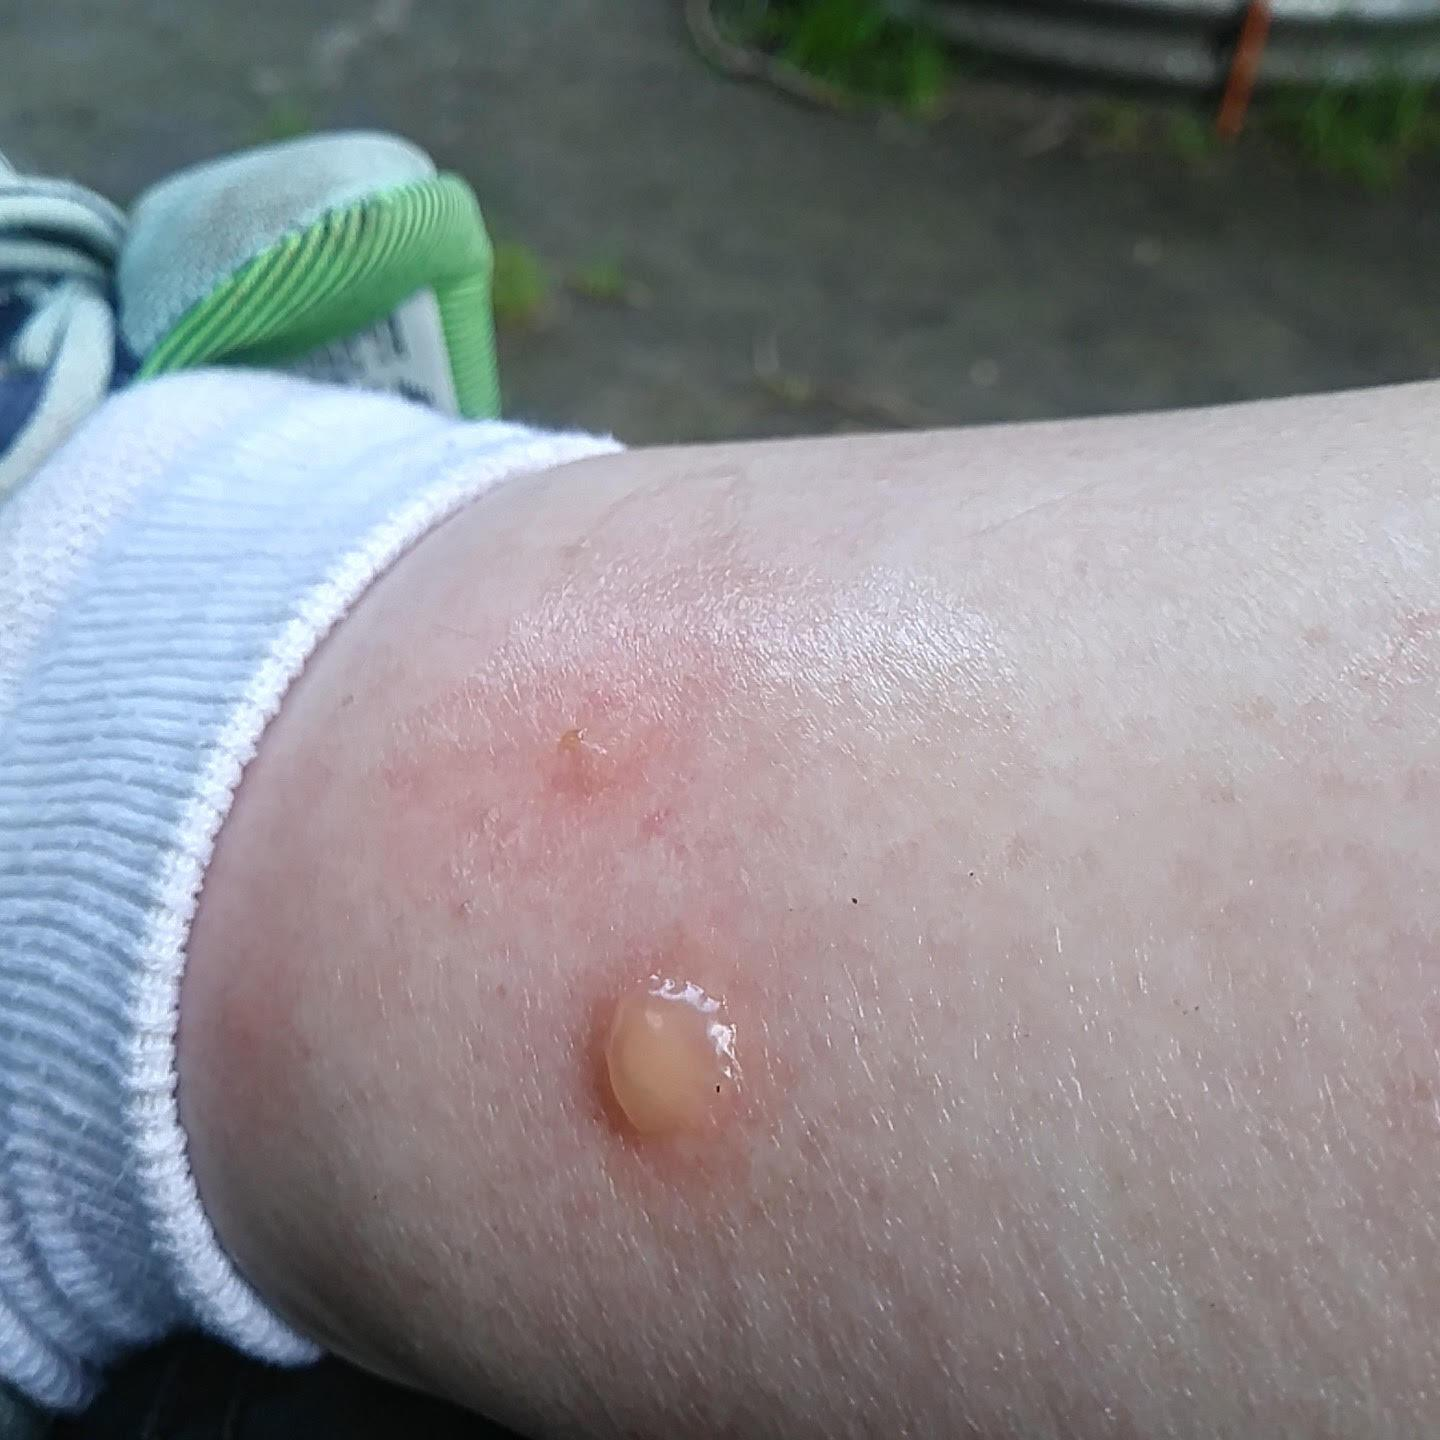Beetle: (513, 887, 828, 1217), (493, 687, 717, 837)
